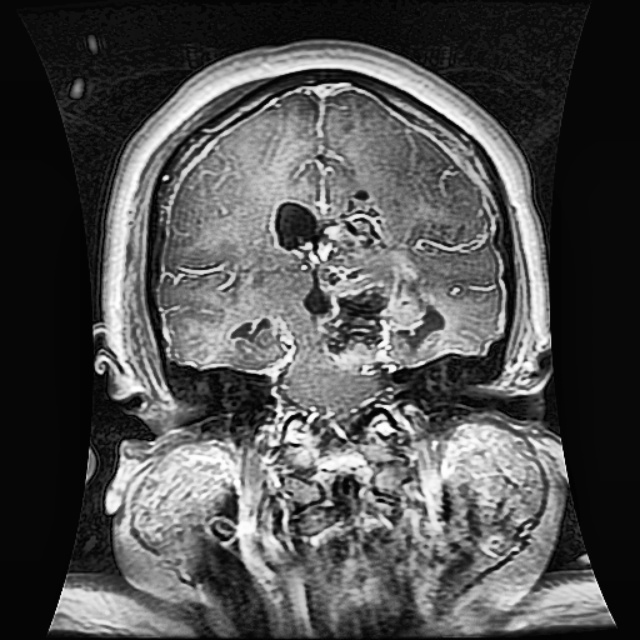Meningioma: (268, 183, 445, 377)
